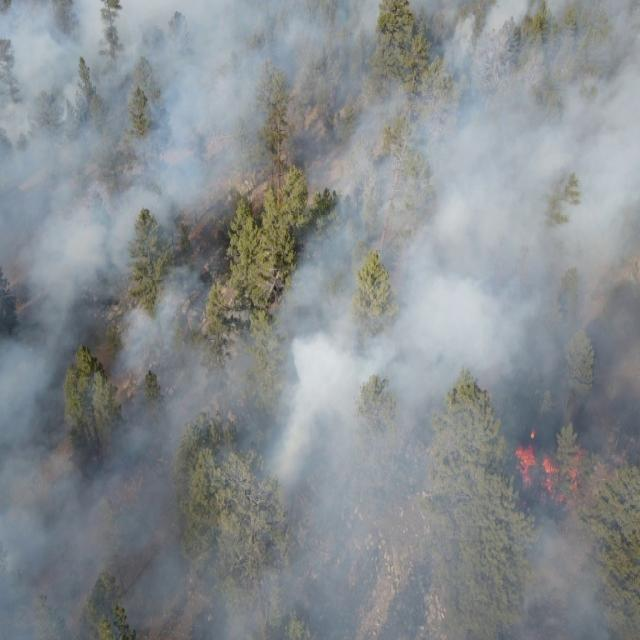fire: (509, 426, 600, 504)
smoke: (0, 0, 640, 640)
